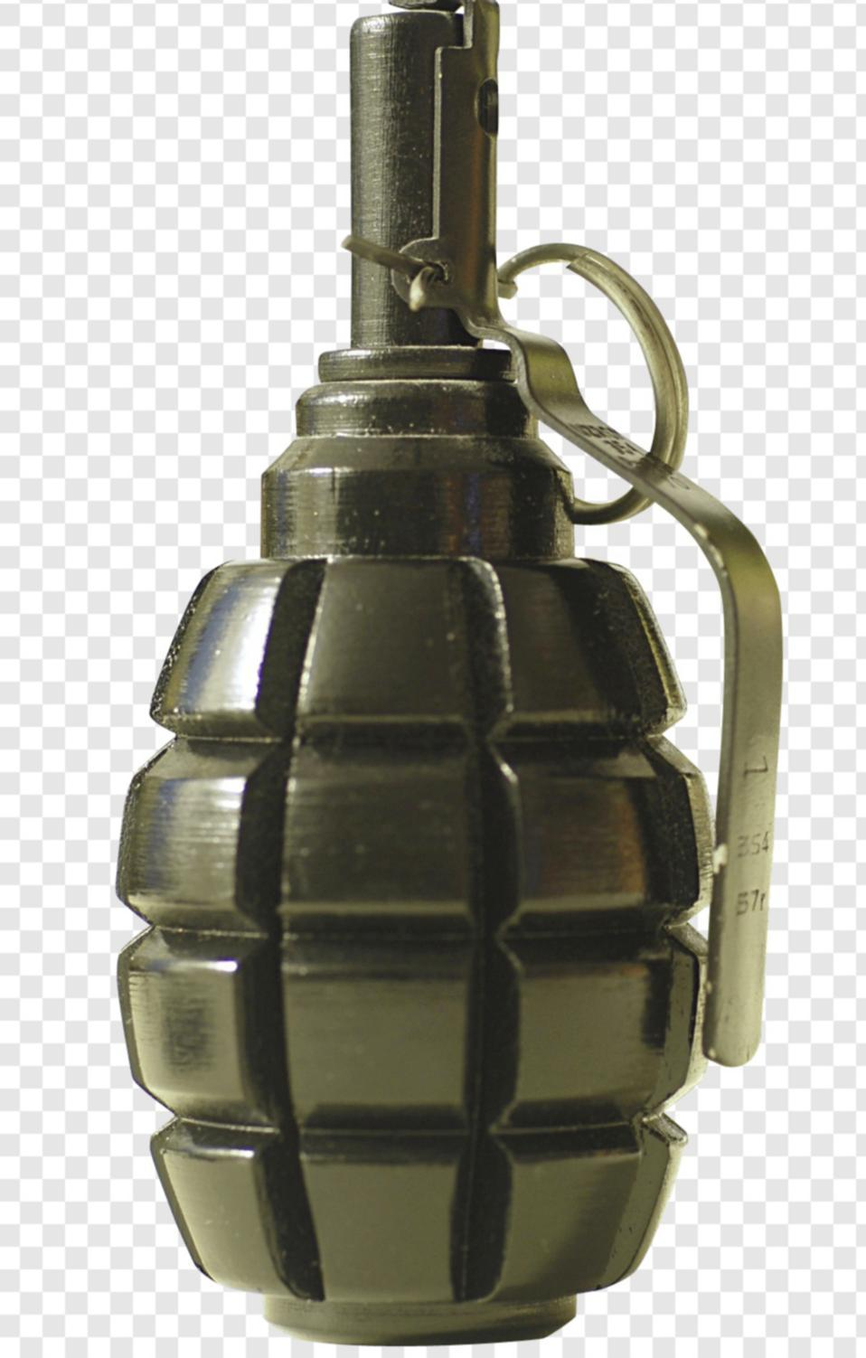Grenade: (111, 0, 787, 1346)
